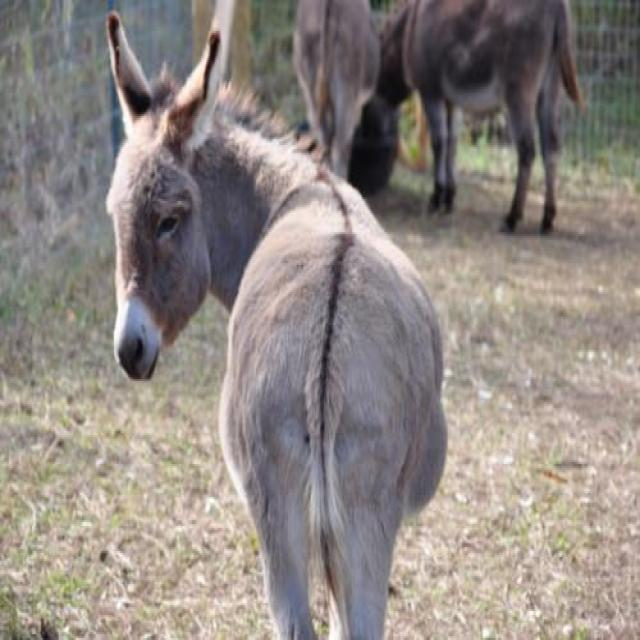Donkey: (105, 11, 448, 640), (364, 0, 584, 241), (294, 1, 379, 186)
